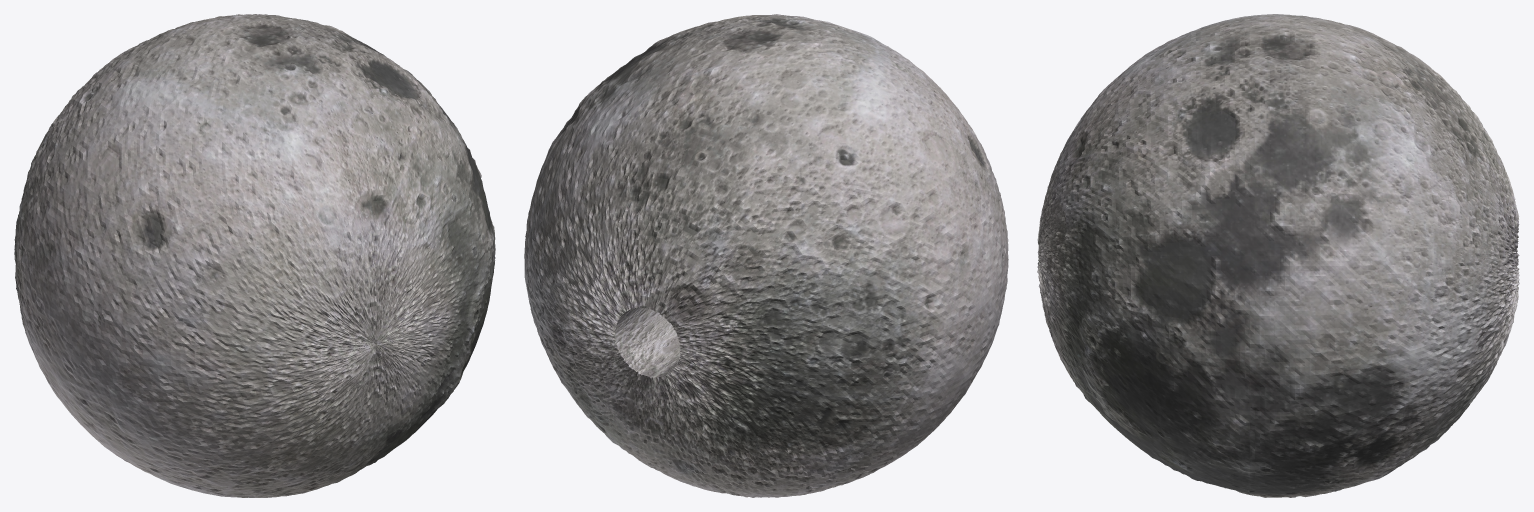
Rendered from mond.obj.
The picture shows the model from 3 angles, left to right: view 1: azimuth 30°, elevation 25°; view 2: azimuth 150°, elevation 25°; view 3: azimuth 270°, elevation 25°; orthographic projection.
Size of the model in its own units: 13.07 by 13.08 by 13.06.
Materials: 1 (1 with a texture image).
